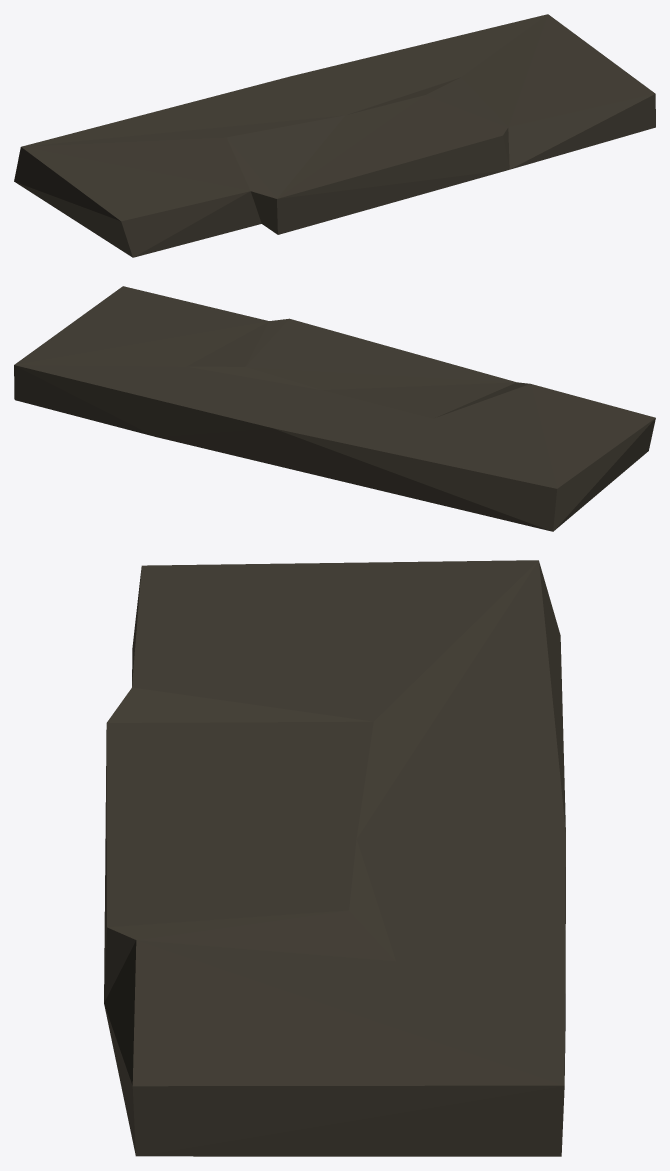
The model's file is Stairs_2_LOD_1.fbx.
3 renders of one model, top to bottom at view 1: azimuth 30°, elevation 25°; view 2: azimuth 150°, elevation 25°; view 3: azimuth 270°, elevation 25°, orthographic. The views are drawn at different scales.
Visible parts, largest first — view 1: Group11806; view 2: Group11806; view 3: Group11806.
Boxes of the visible parts, x1,y1,x2,y2 form: Group11806: (14, 14, 655, 257); Group11806: (14, 286, 655, 531); Group11806: (104, 560, 565, 1156).
Size of the model in its own units: 6.5 by 0.5407 by 2.43.
